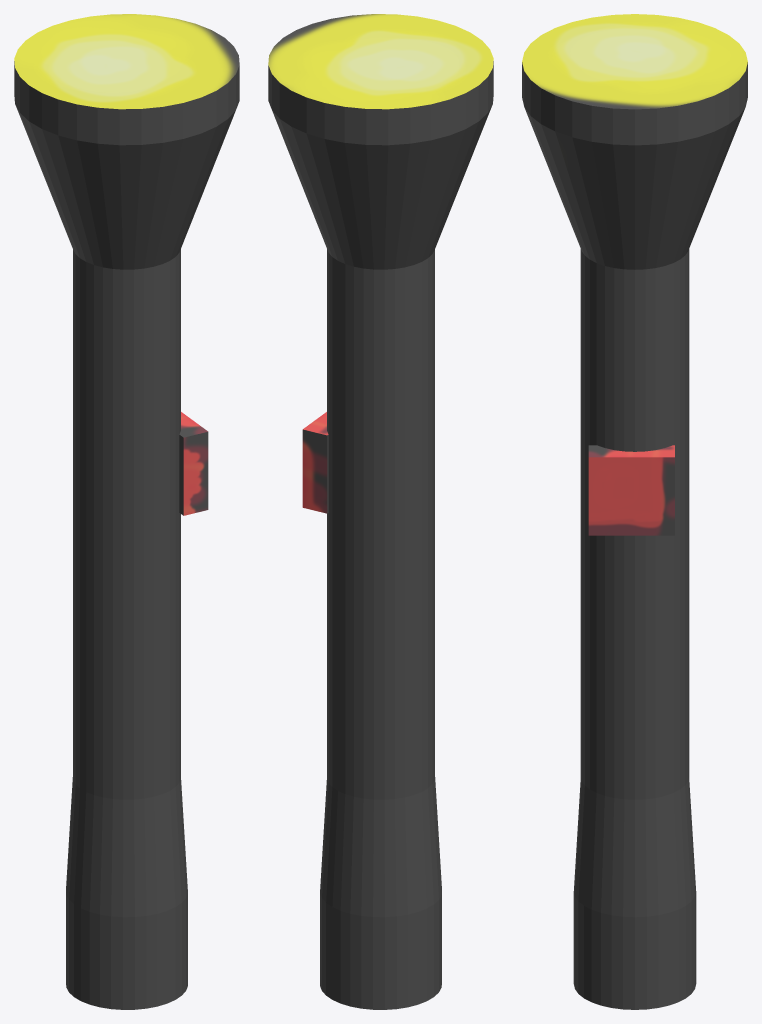
Rendered from baterka.fbx.
3 views of the same model, side by side, from view 1: azimuth 30°, elevation 25°; view 2: azimuth 150°, elevation 25°; view 3: azimuth 270°, elevation 25° (orthographic).
Parts seen in each view (by area): view 1: Cylinder; view 2: Cylinder; view 3: Cylinder.
Part boxes in pixels (box(x1,y1,x2,y2)): Cylinder: box(14, 14, 239, 1009); Cylinder: box(268, 14, 493, 1009); Cylinder: box(522, 14, 747, 1009).
Size of the model in its own units: 417 by 1879 by 417.
